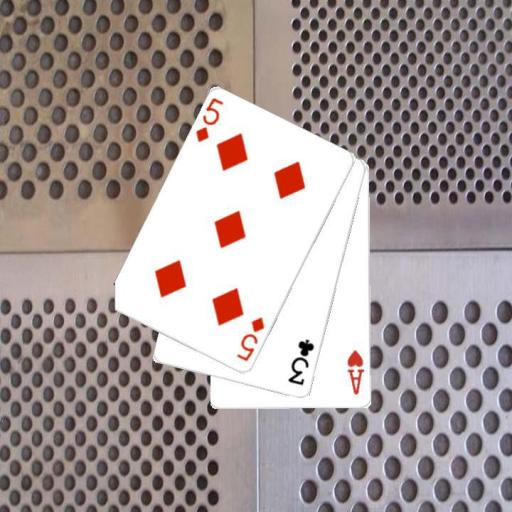3C: (285, 337, 317, 388)
5D: (192, 95, 225, 145), (233, 315, 266, 364)
AH: (344, 347, 366, 396)
